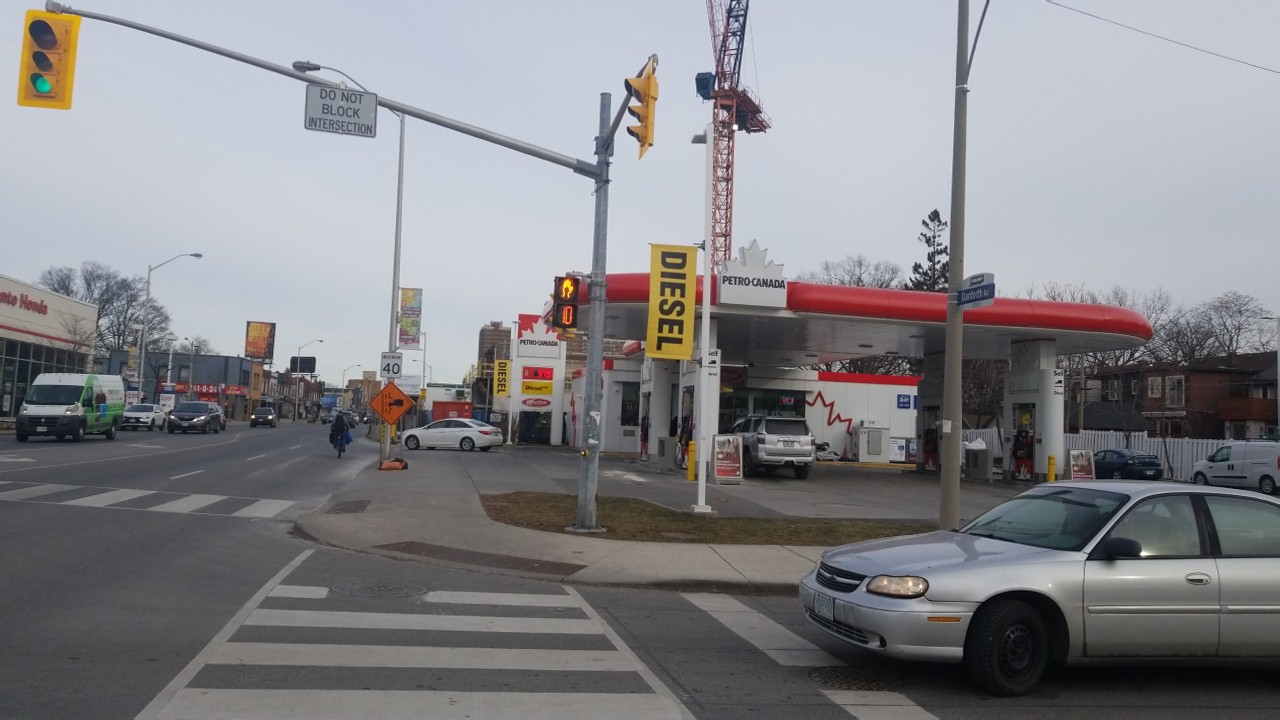light: (552, 274, 580, 330)
